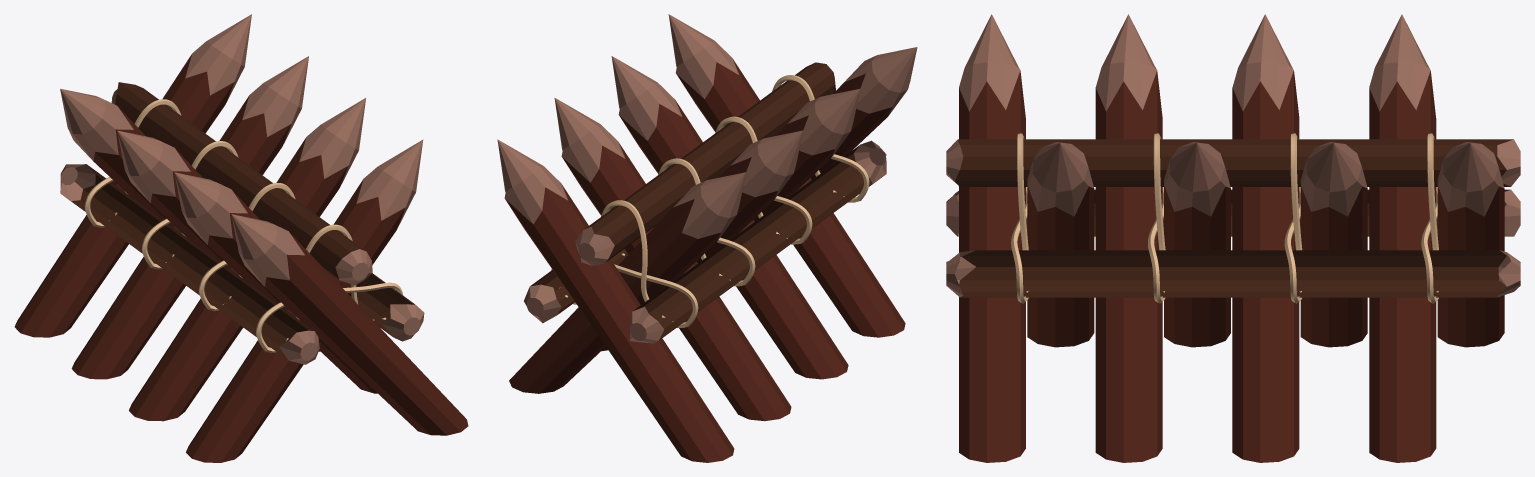
The model's file is Spikes.glb.
3 renders of one model, left to right at view 1: azimuth 30°, elevation 25°; view 2: azimuth 150°, elevation 25°; view 3: azimuth 270°, elevation 25°, orthographic. The views are drawn at different scales.
Parts seen in each view (by area): view 1: Spikes; view 2: Spikes; view 3: Spikes.
Part boxes in pixels (left/top/right/bottom): Spikes: left=14, top=14, right=468, bottom=462; Spikes: left=497, top=14, right=917, bottom=462; Spikes: left=946, top=14, right=1520, bottom=462.
Size of the model in its own units: 9.98 by 10.08 by 16.8.
